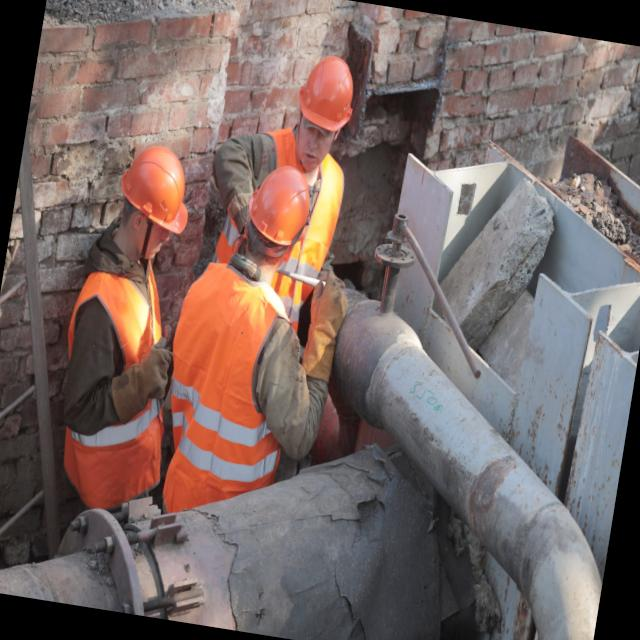Helmet: (115, 141, 201, 237), (243, 161, 319, 252), (294, 51, 362, 137)
Jacket: (164, 245, 302, 499), (49, 246, 172, 517)
